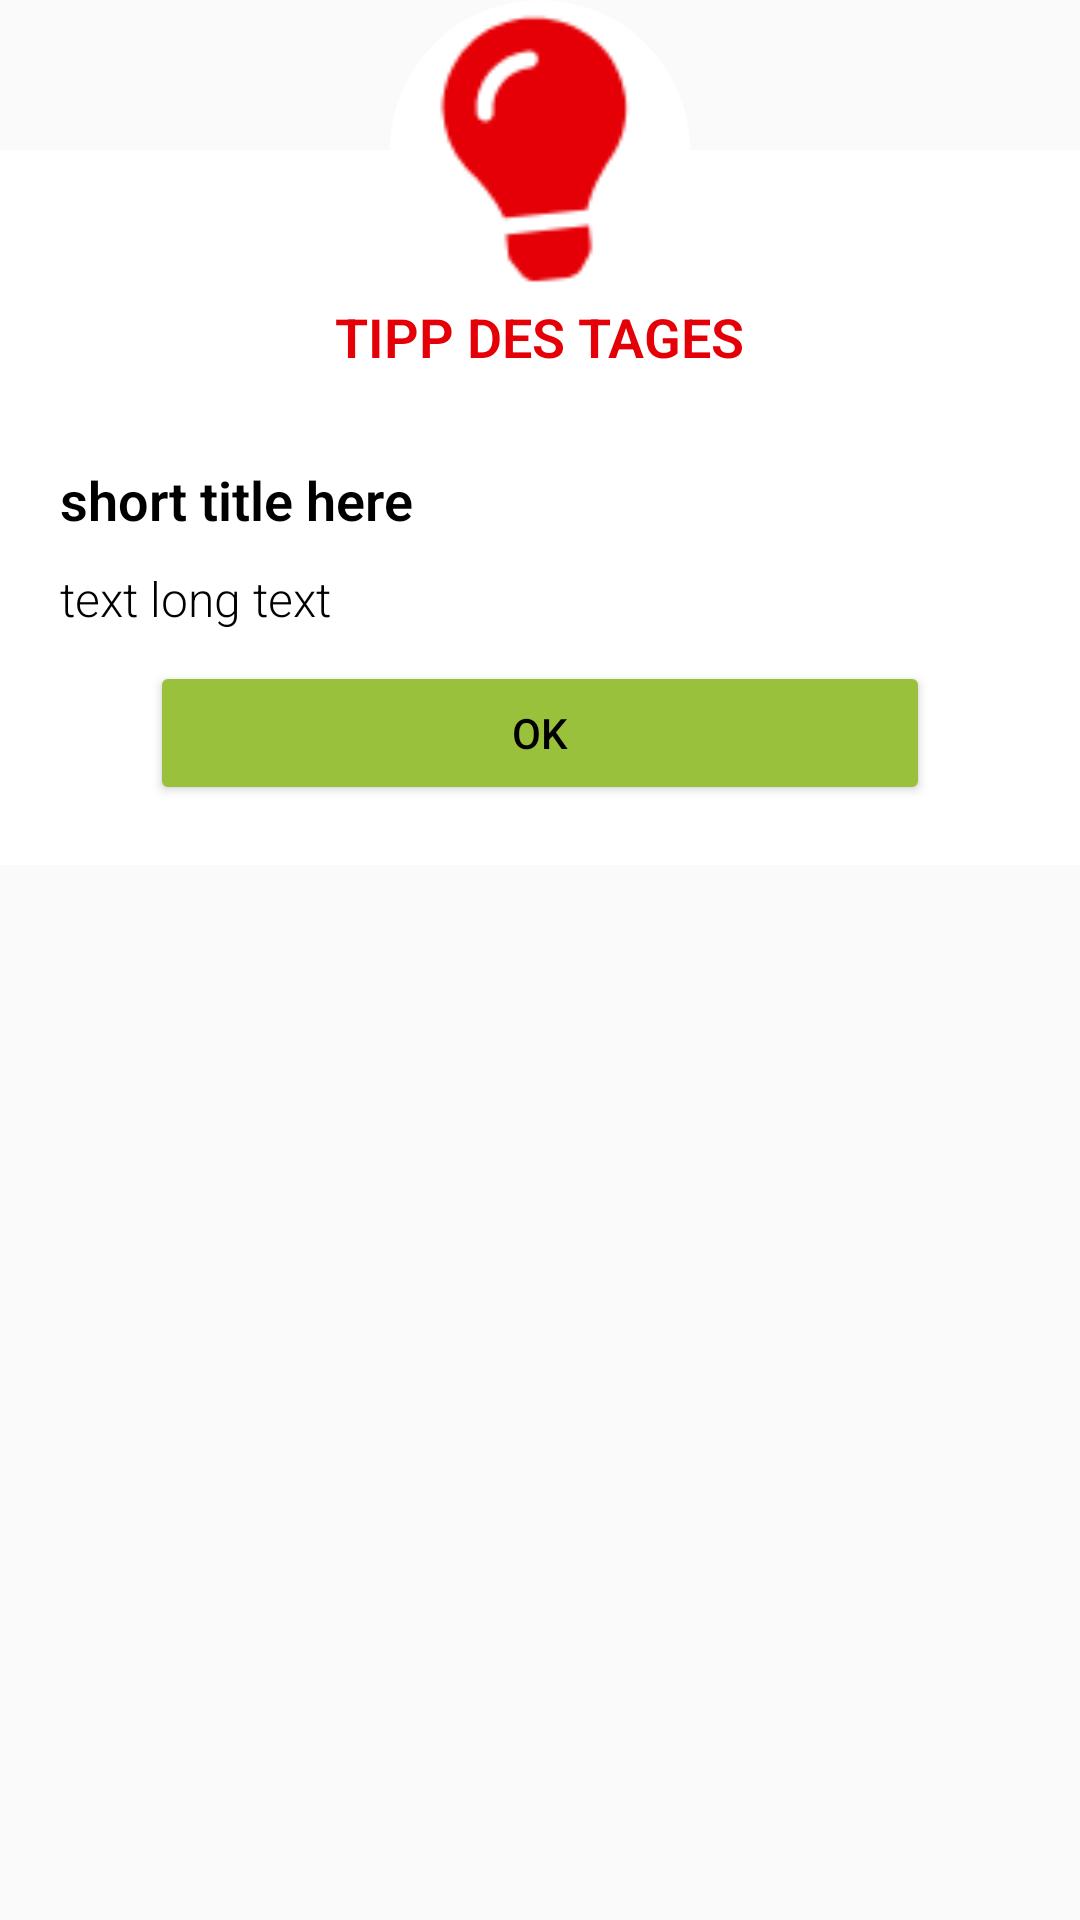

Icon bounding boxes for this 1080 × 1920 phone screenshot, format (x1, y1, x2, y2):
bulb: (440, 15, 628, 282)
